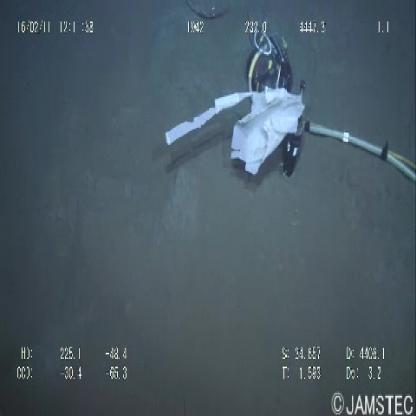Rác: (164, 82, 306, 178)
